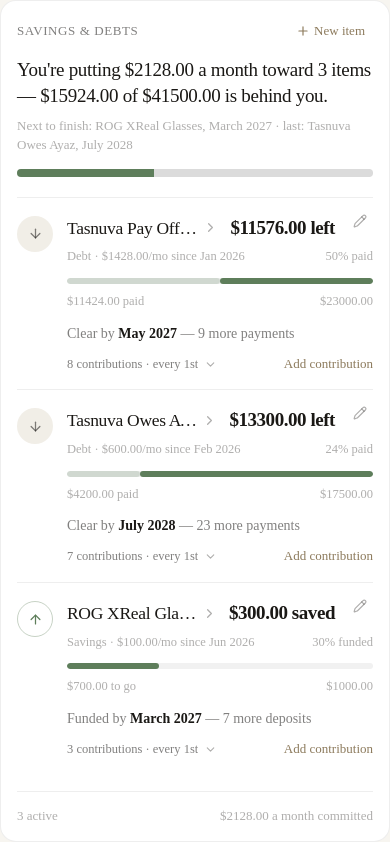
Test: Savings & Debts section — one ledger open at a time › closes an open ledger when its own disclosure is pressed again
This screenshot has width=390, height=842.
Click the button with test id "sd-disclosure".
click(142, 557)  # box [67,543,217,570]
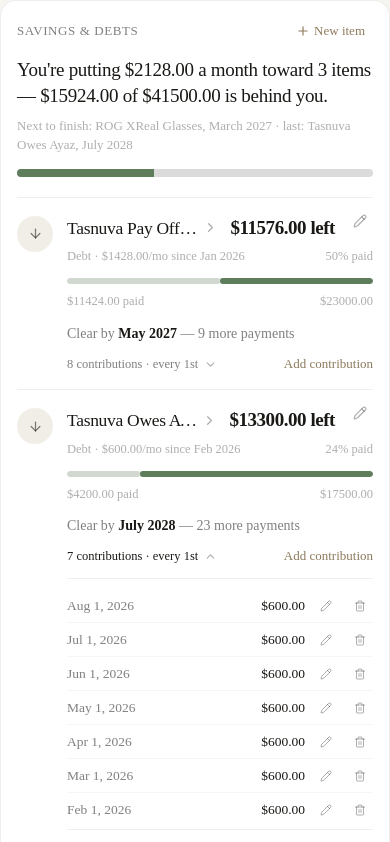
Expected: the number of list items with test id "ledger-row" is 7
Click the button with test id "sd-disclosure".
click(142, 557)  # box [67,543,217,570]
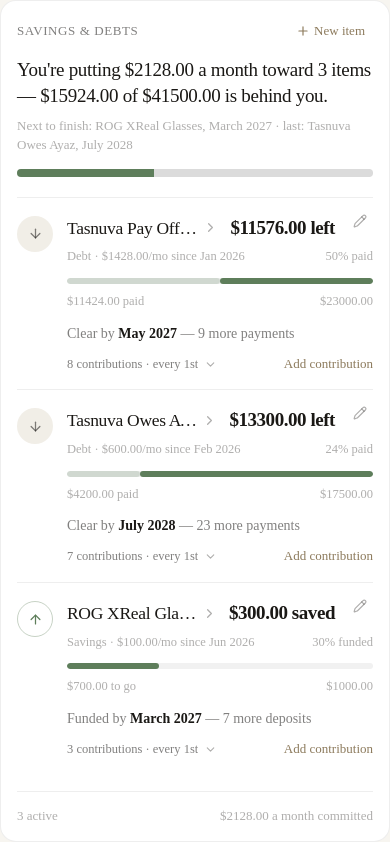
Expected: no list items with test id "ledger-row" are shown
